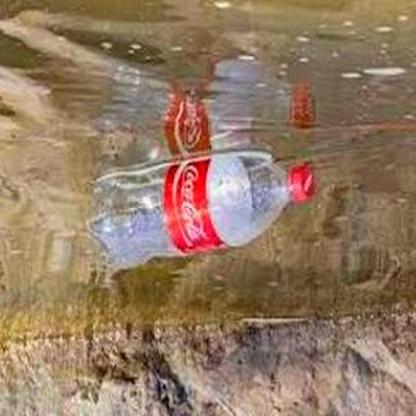plastic bottle: (83, 152, 315, 261)
